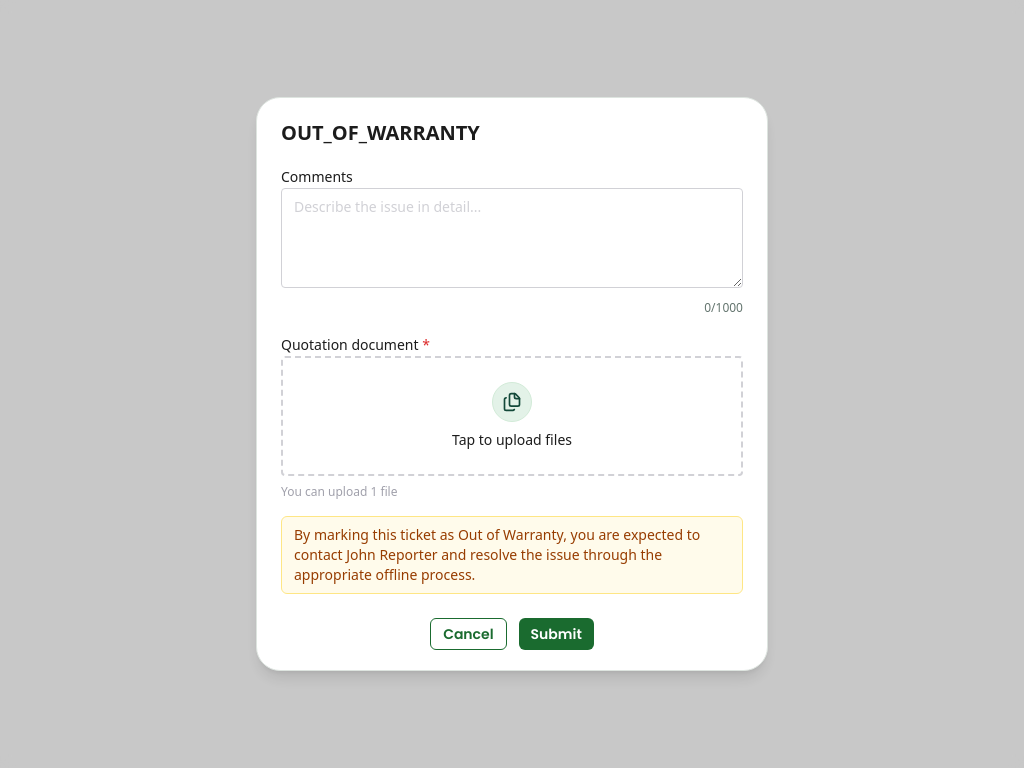
Test: ComplaintActionDialog › documents field › marks the quotation document field required and blocks submission without one, for a quotation-required action
Expected: the text "Quotation document *" is shown, [281, 335, 430, 354]
Click the button "Submit" at (556,634), box [519, 618, 594, 650]
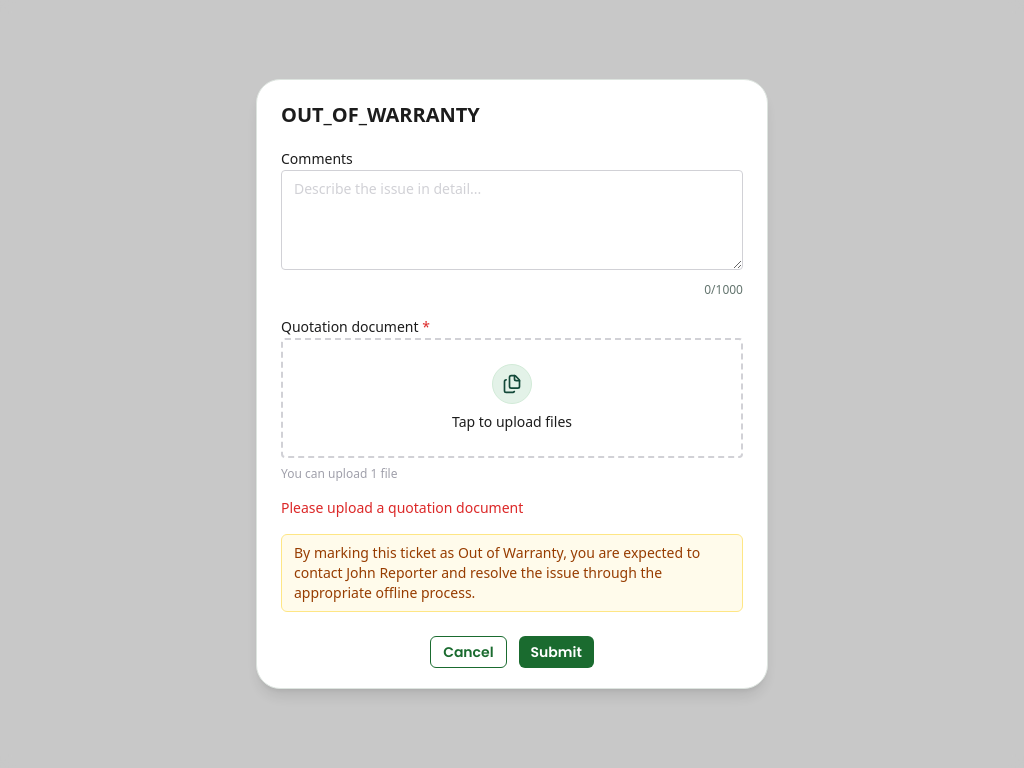
Expected: the text "Please upload a quotation document" is shown, [281, 498, 523, 517]
